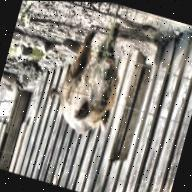boar: (39, 10, 135, 144)
